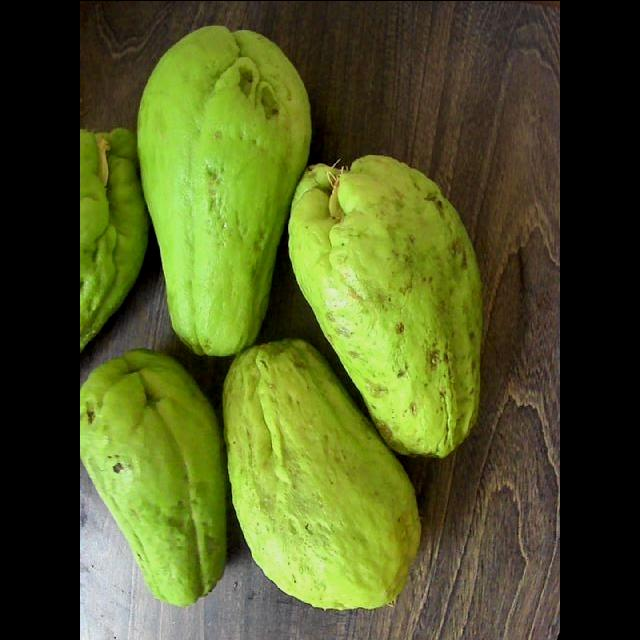chayote: (289, 154, 480, 455), (138, 25, 311, 355), (223, 338, 420, 608), (80, 349, 227, 605), (80, 127, 150, 350)
